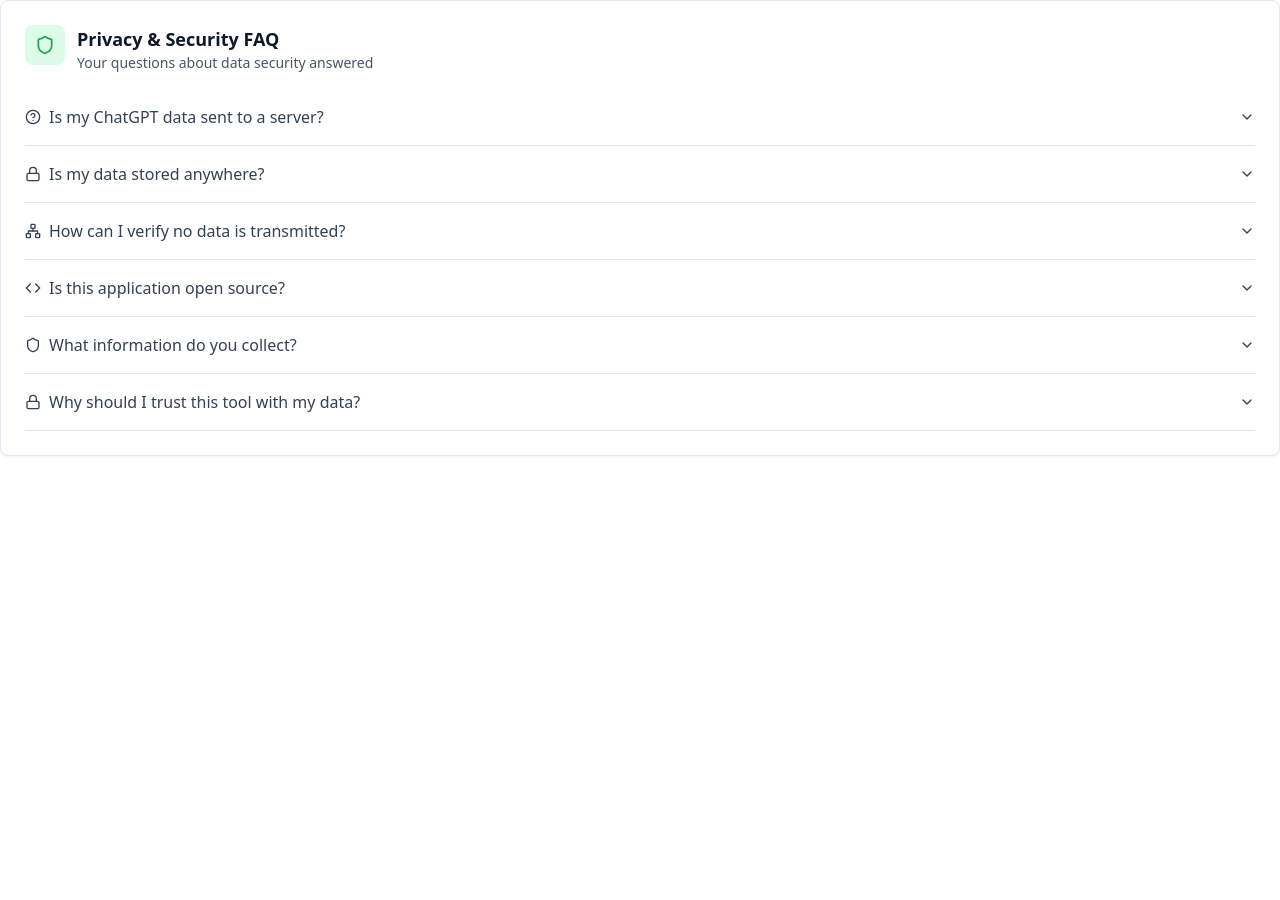
PrivacyFAQ › emphasizes verification over trust
What coordinates should you click on to do the following:
click the button "Why should I trust this tool with my data?"
I would click on:
 (205, 402)
Its box is [25,374,1255,430].
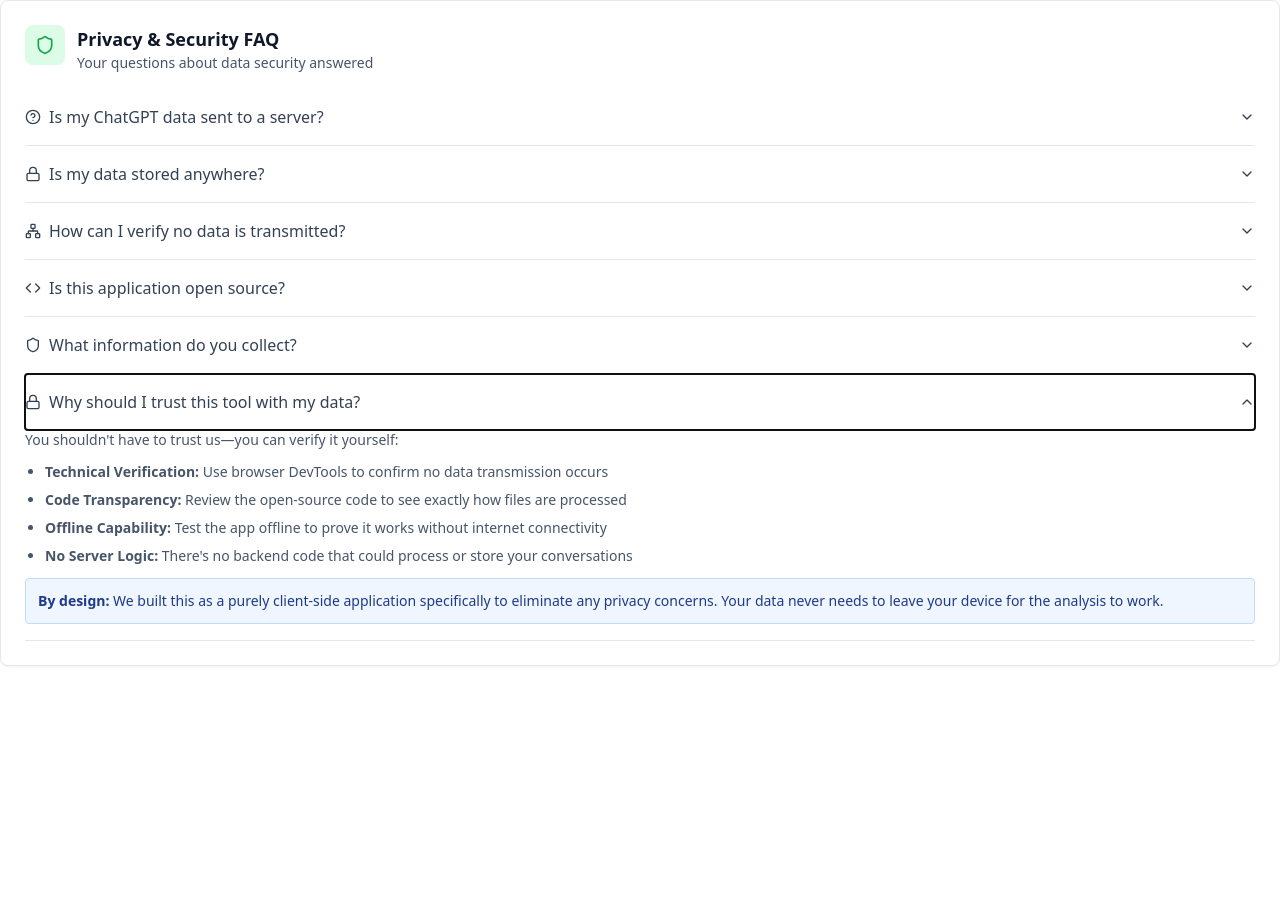
Result: the text "You shouldn't have to trust us—you can verify it yourself:" is shown at [25,430,398,449]
